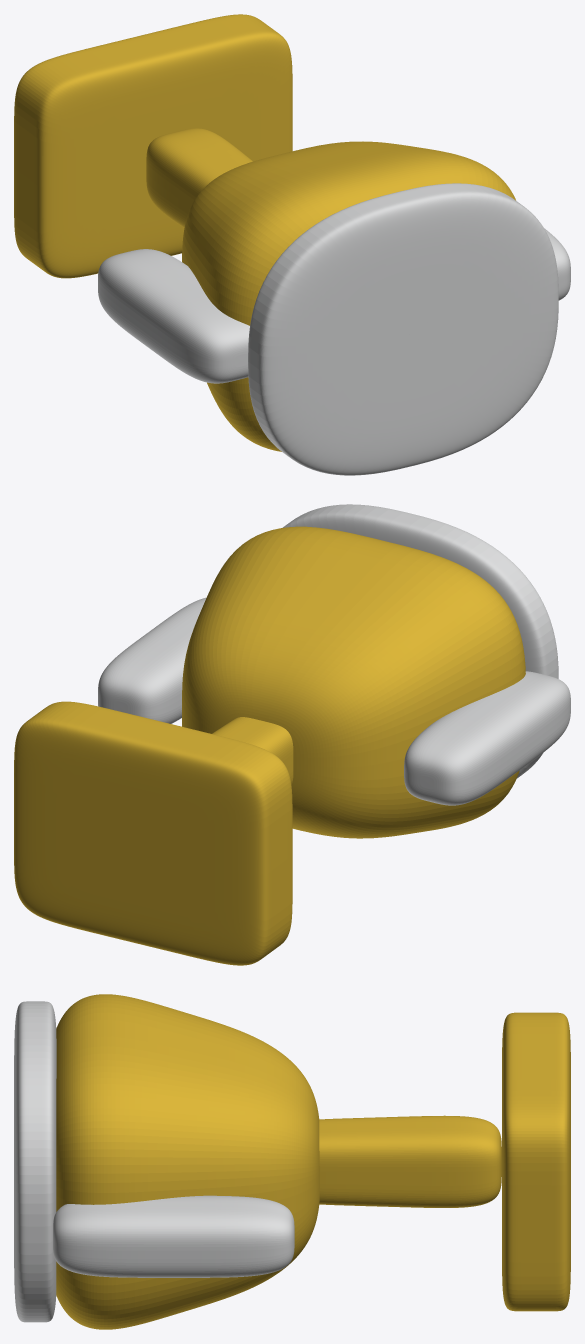
File: silver_trophy_cup_sq.glb
The picture shows the model from 3 angles, top to bottom: view 1: azimuth 30°, elevation 25°; view 2: azimuth 150°, elevation 25°; view 3: azimuth 270°, elevation 25°; orthographic projection.
Parts seen in each view (by area): view 1: superquadric_1, superquadric_3, superquadric_0, superquadric_4, superquadric_2, superquadric_5; view 2: superquadric_0, superquadric_3, superquadric_4, superquadric_1, superquadric_5, superquadric_2; view 3: superquadric_0, superquadric_3, superquadric_5, superquadric_2, superquadric_1.
Boxes of the visible parts, box(x1,y1,x2,y2) form: superquadric_1: box(248, 183, 558, 475); superquadric_3: box(14, 14, 292, 278); superquadric_0: box(182, 141, 515, 451); superquadric_4: box(98, 249, 249, 383); superquadric_2: box(146, 128, 252, 227); superquadric_5: box(544, 228, 570, 300); superquadric_0: box(182, 526, 525, 838); superquadric_3: box(14, 701, 292, 965); superquadric_4: box(404, 671, 570, 805); superquadric_1: box(282, 504, 558, 778); superquadric_5: box(98, 597, 206, 723); superquadric_2: box(212, 717, 293, 785); superquadric_0: box(56, 994, 319, 1329); superquadric_3: box(502, 1012, 570, 1311); superquadric_5: box(53, 1195, 294, 1277); superquadric_2: box(319, 1115, 501, 1207); superquadric_1: box(14, 1001, 56, 1322).
Bounding box in the file's own units: 0.7907 × 0.5271 × 1.
